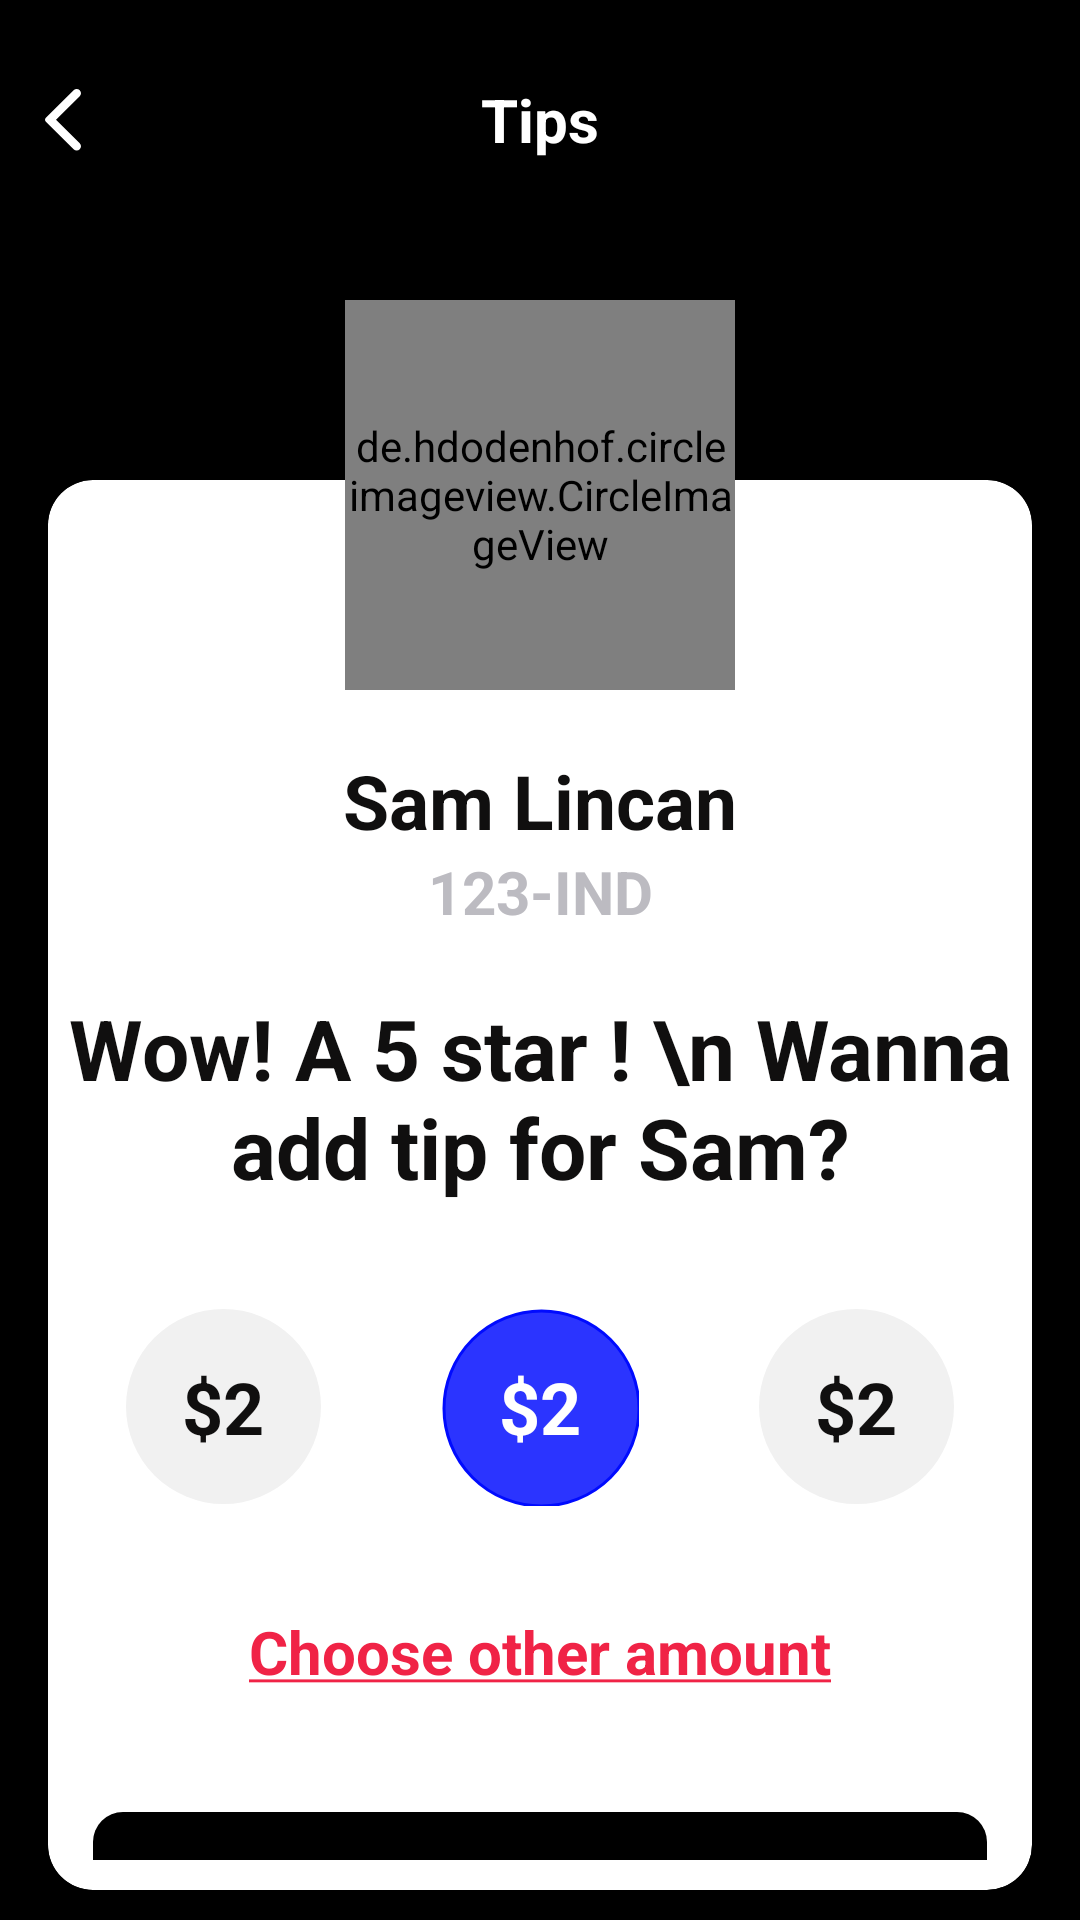

Screen size 1080×1920. Icon name, then its box in pixels as (left=x1, top=y1, right=x2, bottom=y2):
left arrow: (left=45, top=89, right=81, bottom=151)
